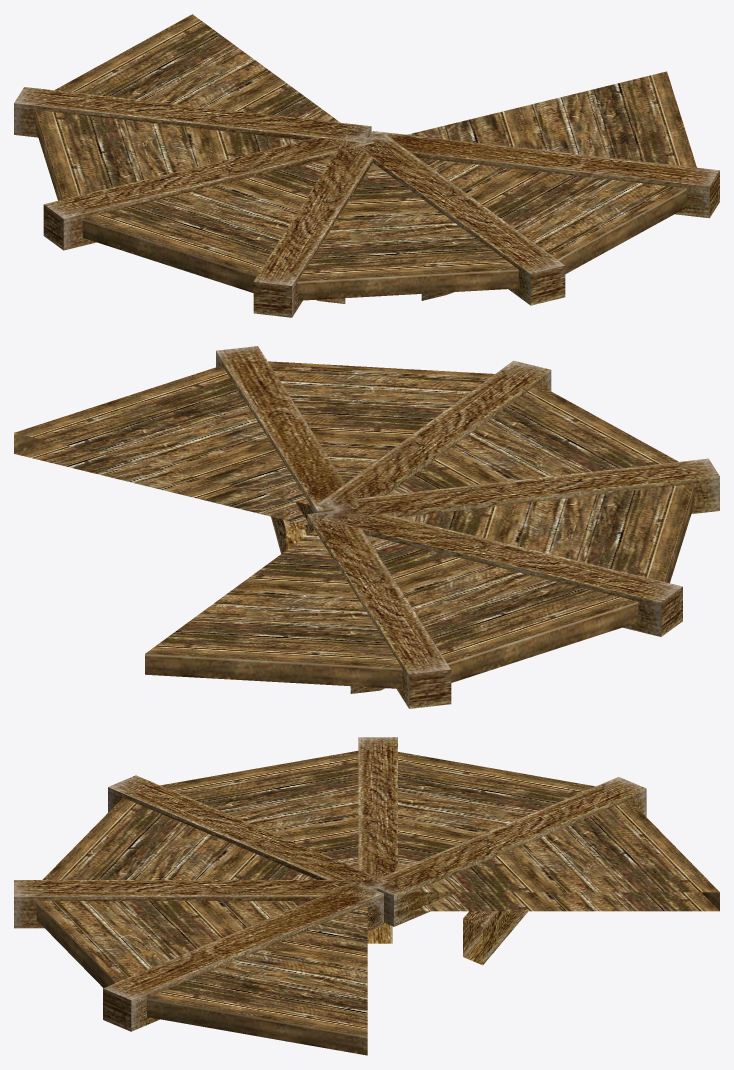
The picture shows the model from 3 angles, top to bottom: view 1: azimuth 30°, elevation 25°; view 2: azimuth 150°, elevation 25°; view 3: azimuth 270°, elevation 25°; orthographic projection. The views are drawn at different scales.
Parts seen in each view (by area): view 1: cc35-col; view 2: cc35-col; view 3: cc35-col.
Boxes of the visible parts, box(x1,y1,x2,y2) form: cc35-col: box(14, 14, 719, 317); cc35-col: box(14, 346, 719, 708); cc35-col: box(14, 737, 719, 1055).
Size of the model in its own units: 9.11 by 1.6 by 9.21.
Materials: 2 (2 with a texture image).
